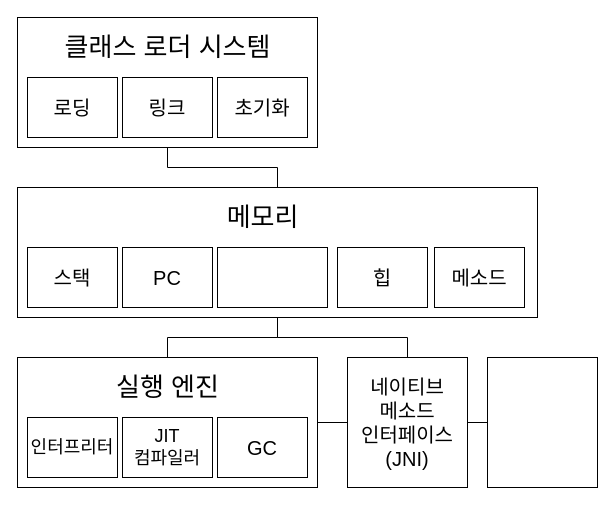
This 615x505 diagram has some shape labels left out. Each missing label, with the box of its shape:
네이티브 메소드 라이브러리: (486, 356, 598, 488)
네이티브 메소드 스택: (216, 246, 328, 308)
